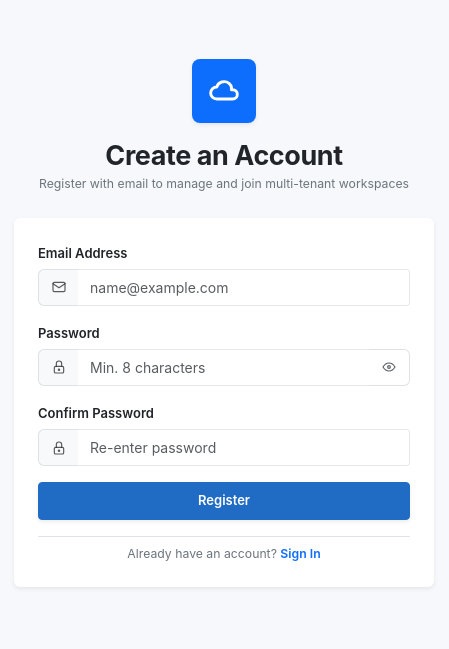
Test: Amazon Cognito Authentication & UI (Phase 4) › RegisterPage Component › validates password mismatch on registration submit
This screenshot has width=449, height=649.
In the field with placeholder "name@example.com": (244, 287) 78,269 -> 410,306, type "newuser@example.com"
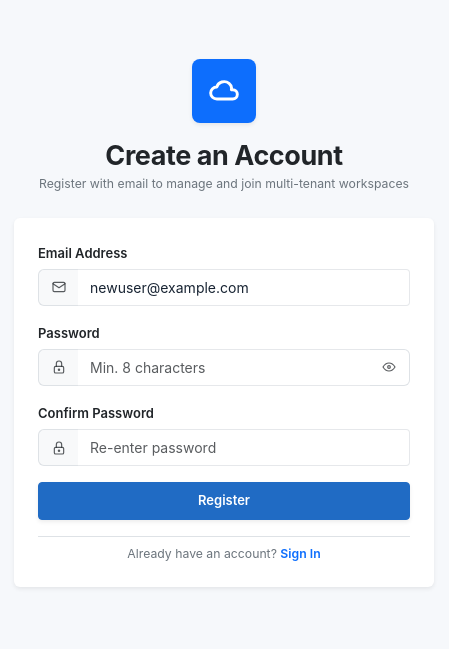
In the password field with placeholder "Min. 8 characters": (224, 368) 78,349 -> 370,386, type "Password123!"
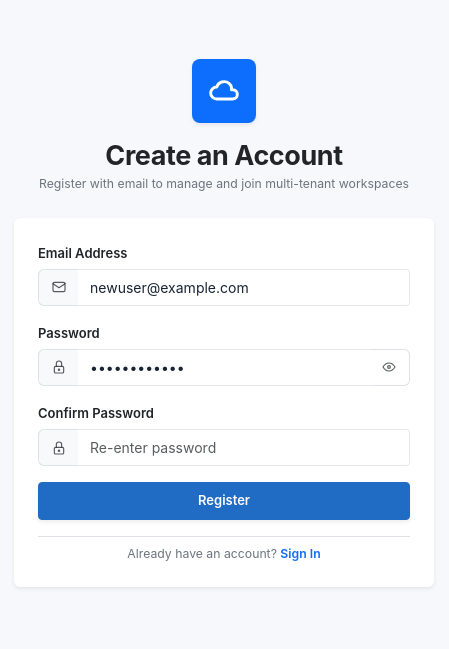
In the password field with placeholder "Re-enter password": (244, 448) 78,429 -> 410,466, type "DifferentPass"
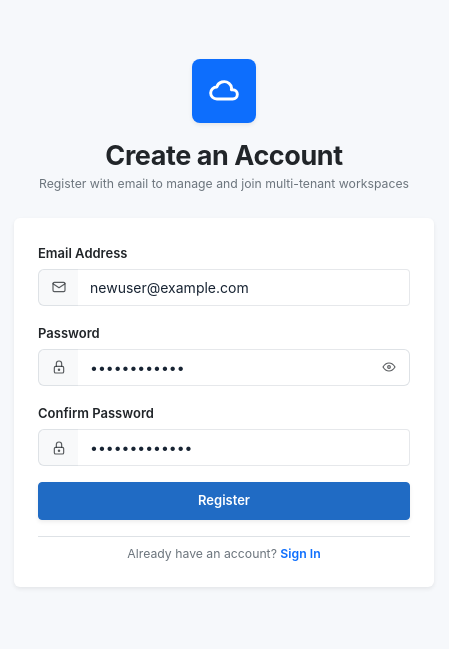
Click the button "Register": (224, 501) 38,482 -> 410,520
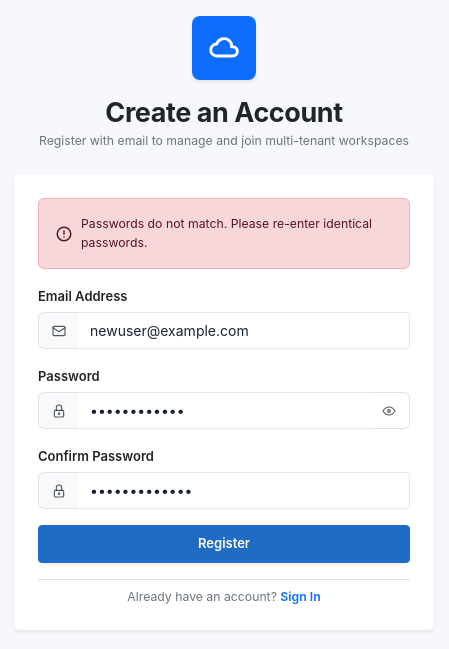
Result: the text "Passwords do not match. Please re-enter identical passwords." is shown at 81,215 -> 393,252
